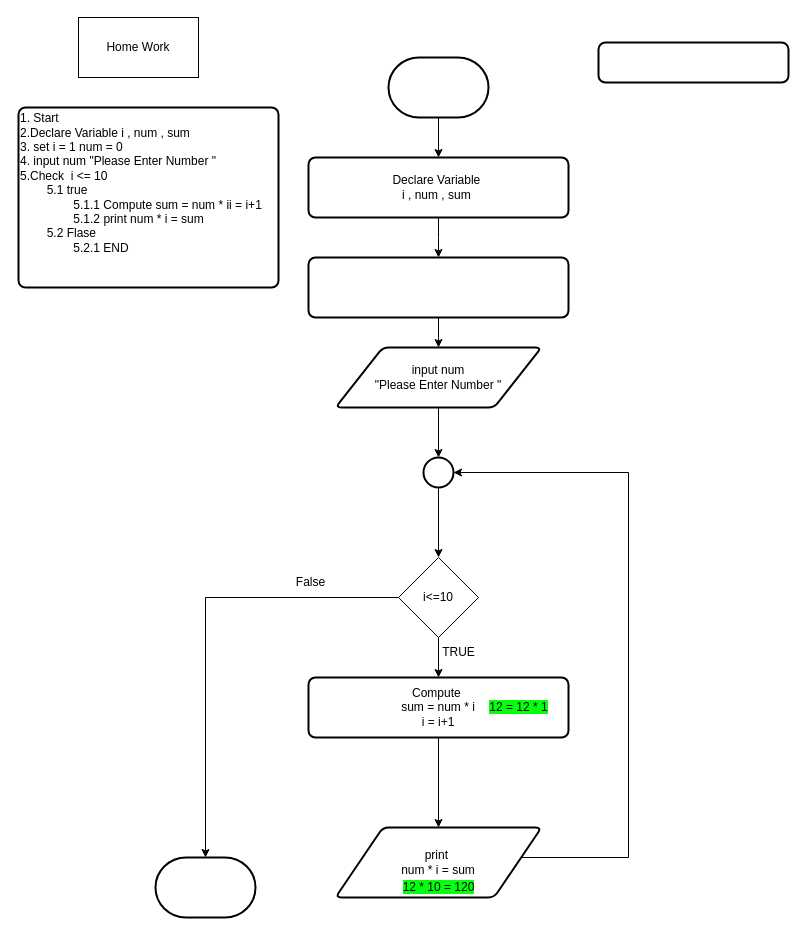
The diagram is 806 pixels wide and 936 high, and some of its shapes have lost their labels. Here are the shapes that lost their labels. From the top down, the centre of each, then its label:
the point at 693,62: Name Student ID : 1670700044 นายณัฐชนนท์ ศิรมลพิวัฒน์ เลขที่ 1
the point at 438,87: Start
the point at 438,287: i = 1 num = 0
the point at 205,887: End
